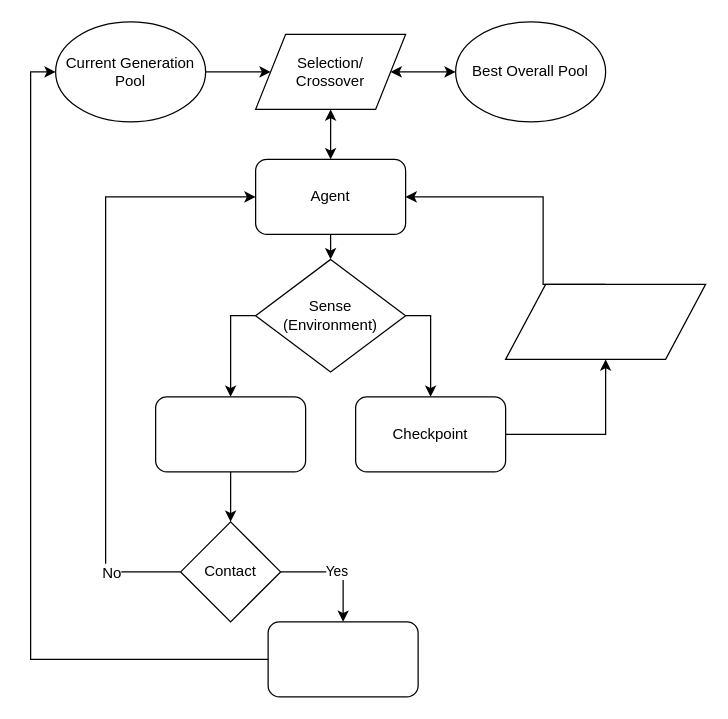
Image size: 728x719. Some labels were removed from this diagram. The shapes that lost their labels are listed below. From the top down, each one's centre as x and y in pixels, then its label:
At pixel 605 321: "Increment Fitness".
At pixel 230 434: "Wall".
At pixel 342 659: "Dead".
